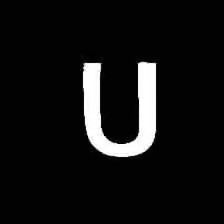LTR_U: (76, 53, 161, 158)
